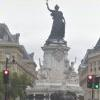Statue: (36, 2, 76, 59)
